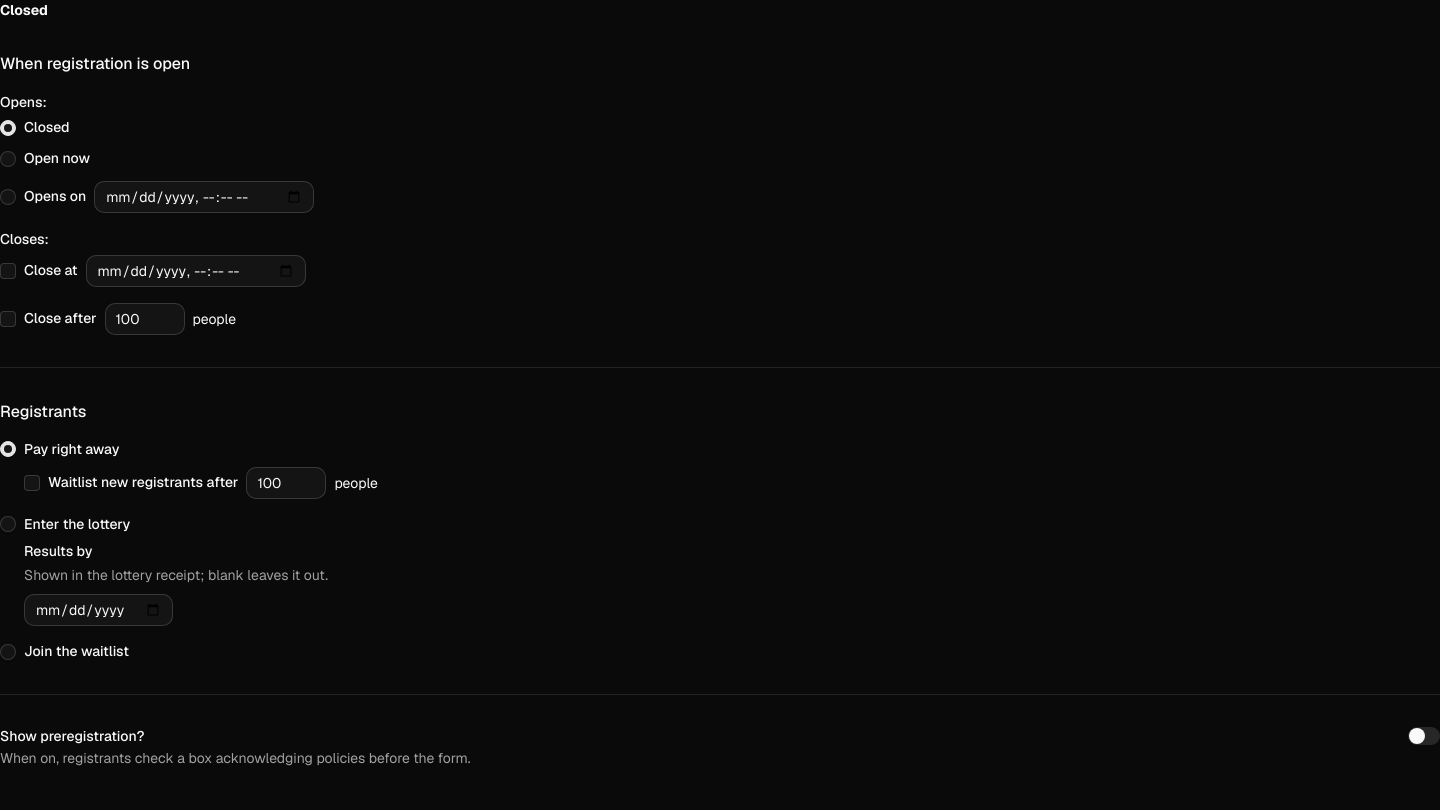
Scenario: RegistrationForm › opening › stays closed when cancelled
Click the radio button named "Open now" next to "Open now" at (8, 159), box [0,151,16,167]
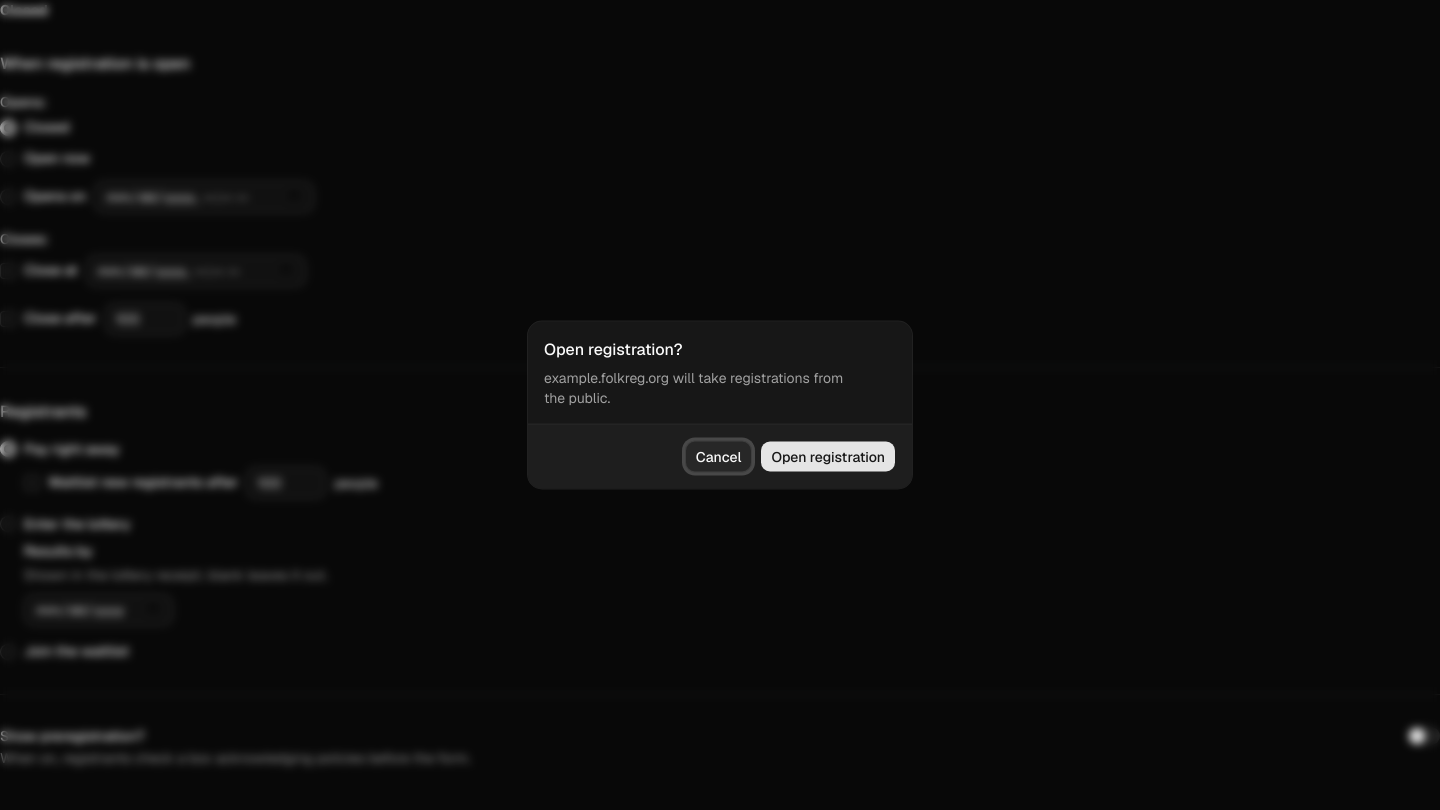
Click the button "Cancel" at (719, 456), box [685,440,752,472]
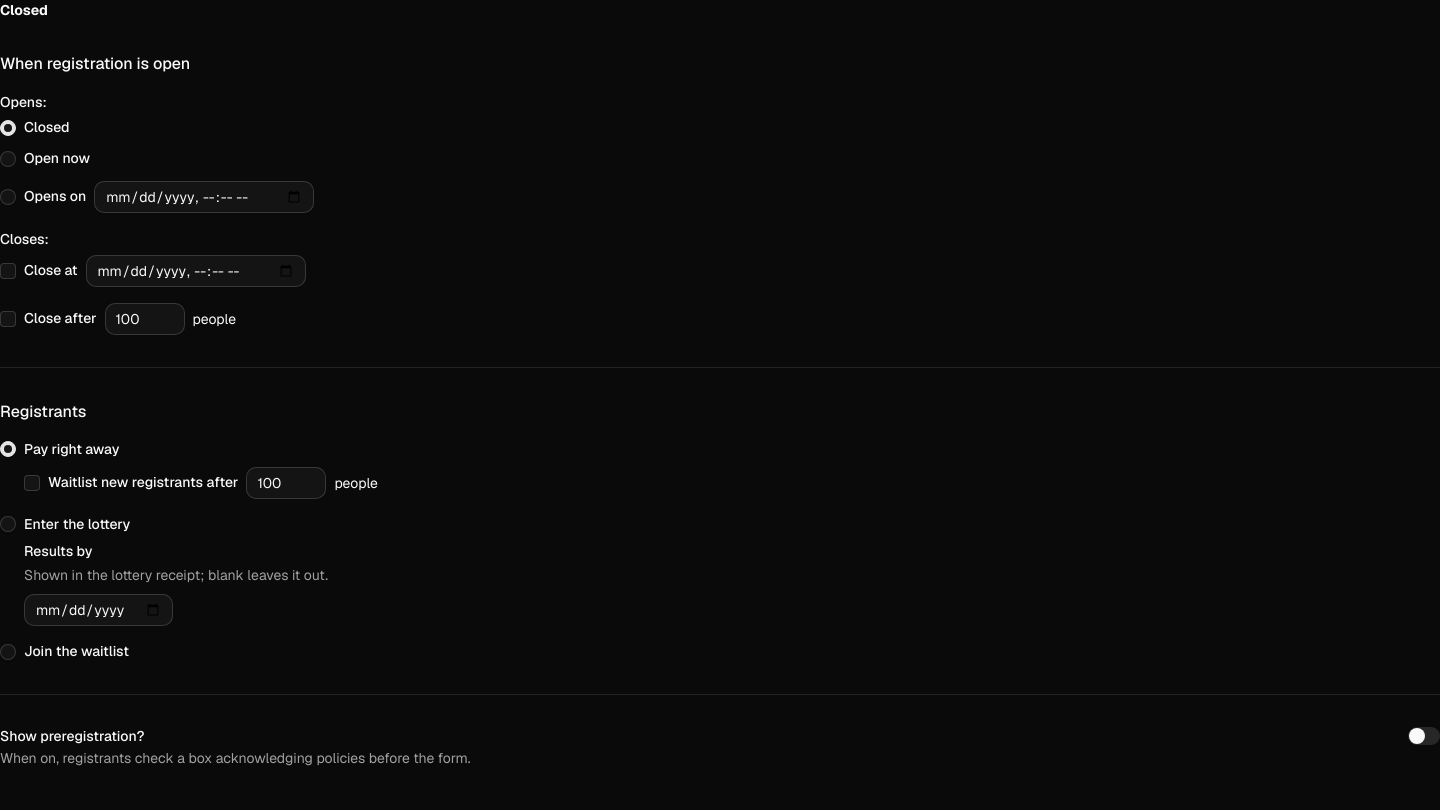
expect the 1st radio button named "Closed" is checked: met, box [0,120,16,136]
expect the dialog is gone: met
